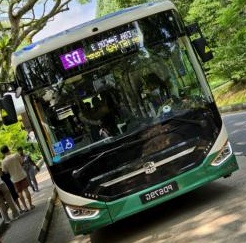bus: (58, 48, 86, 69)
